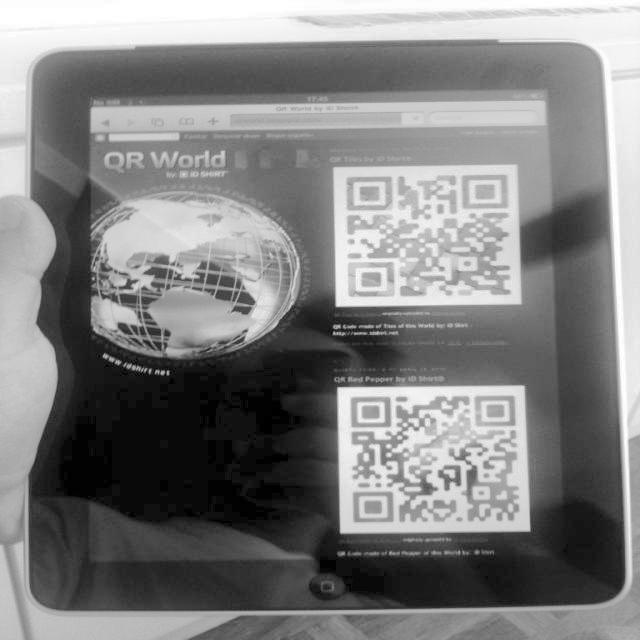qr_code: (351, 396, 519, 523), (346, 175, 511, 297)
